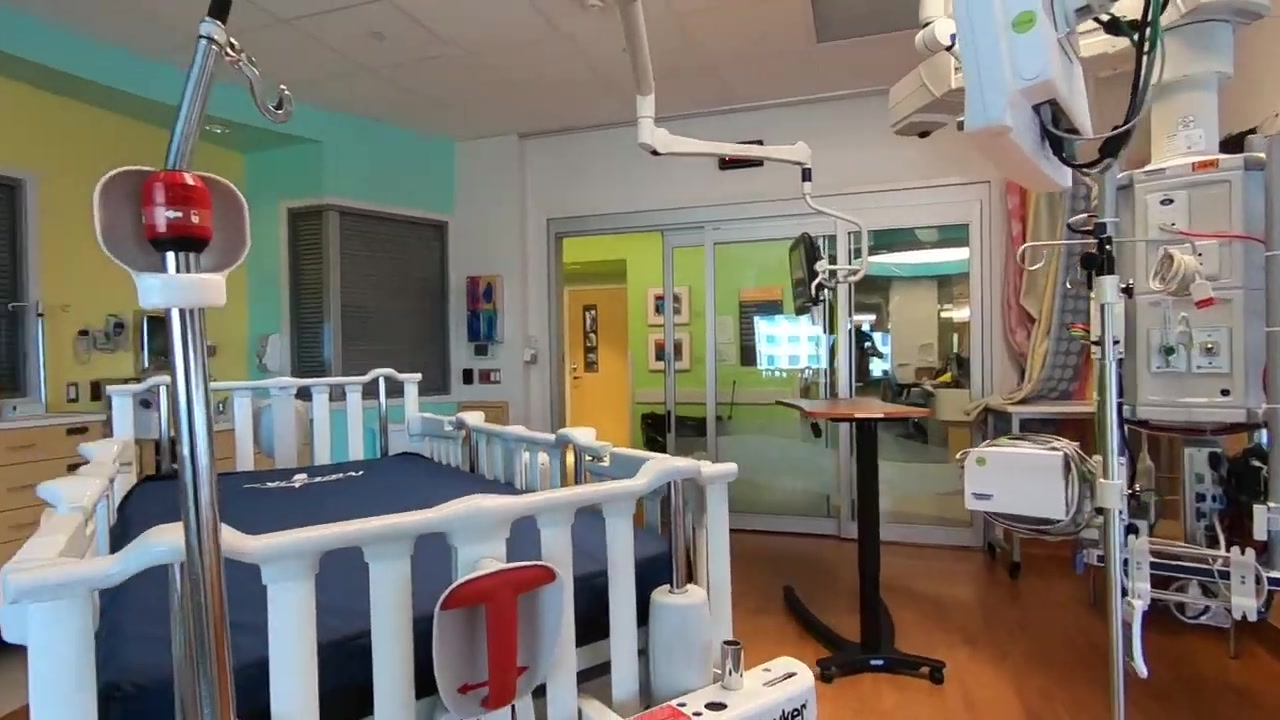bedrail: (48, 466, 737, 720), (421, 404, 724, 496), (9, 435, 116, 605)
bedside_monitor: (786, 233, 827, 316)
curtain: (994, 169, 1091, 398)
dispenser: (256, 332, 279, 372)
faucet: (214, 393, 229, 417)
handle: (5, 479, 40, 494), (5, 516, 38, 530), (3, 441, 40, 451)
hospital_bed: (1, 369, 818, 720)
iv_pole: (92, 1, 298, 720), (1019, 228, 1206, 720), (8, 300, 73, 416)
medical_drawer: (1, 411, 106, 562)
overbed_table: (771, 394, 951, 683)
